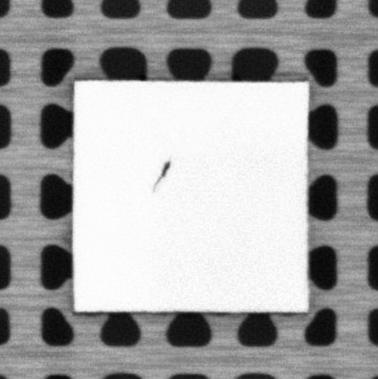DIE_INK: (152, 159, 173, 192)
